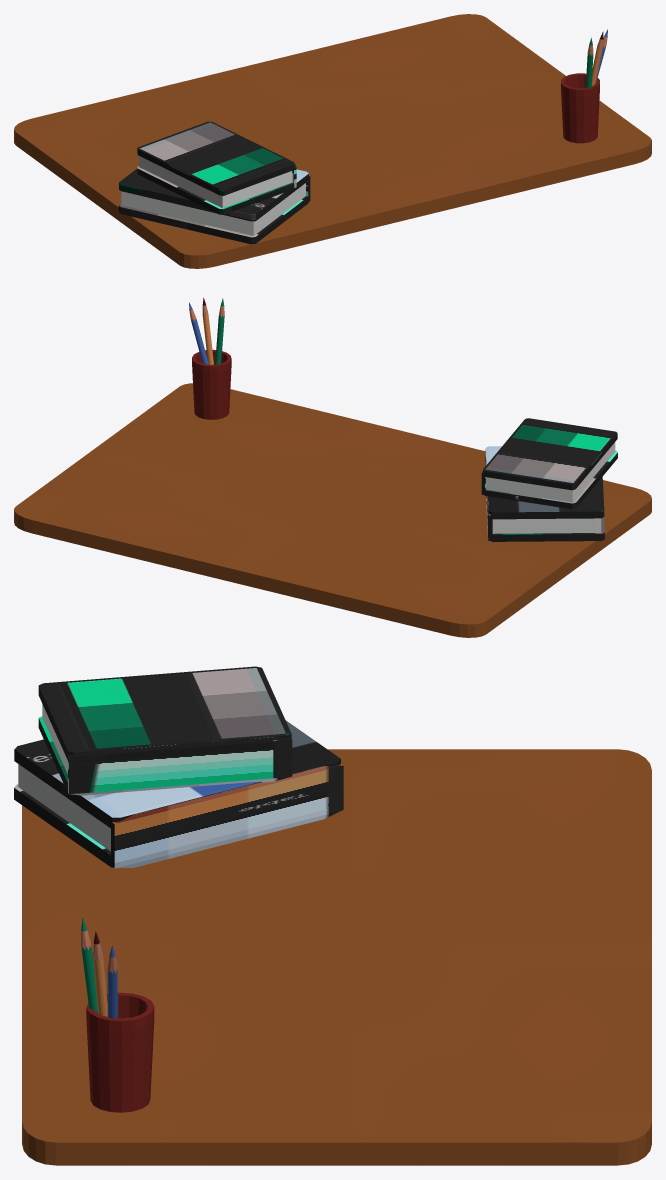
File: Table.fbx
3 views of the same model, one above another, from view 1: azimuth 30°, elevation 25°; view 2: azimuth 150°, elevation 25°; view 3: azimuth 270°, elevation 25° (orthographic). The views are drawn at different scales.
Parts seen in each view (by area): view 1: table, prop_book_2, prop_book, prop_pencilcup; view 2: table, prop_book_2, prop_book, prop_pencilcup; view 3: table, prop_book_2, prop_book, prop_pencilcup.
Boxes of the visible parts, x1,y1,x2,y2 form: table: [14, 14, 651, 268]; prop_book_2: [137, 121, 296, 214]; prop_book: [118, 169, 310, 244]; prop_pencilcup: [561, 29, 607, 143]; table: [14, 383, 651, 637]; prop_book_2: [481, 418, 617, 509]; prop_book: [485, 446, 604, 541]; prop_pencilcup: [189, 298, 231, 419]; table: [22, 749, 651, 1165]; prop_book_2: [38, 666, 292, 795]; prop_book: [14, 720, 343, 868]; prop_pencilcup: [81, 917, 154, 1112].
Bounding box in the file's own units: 1441 × 347 × 974.
